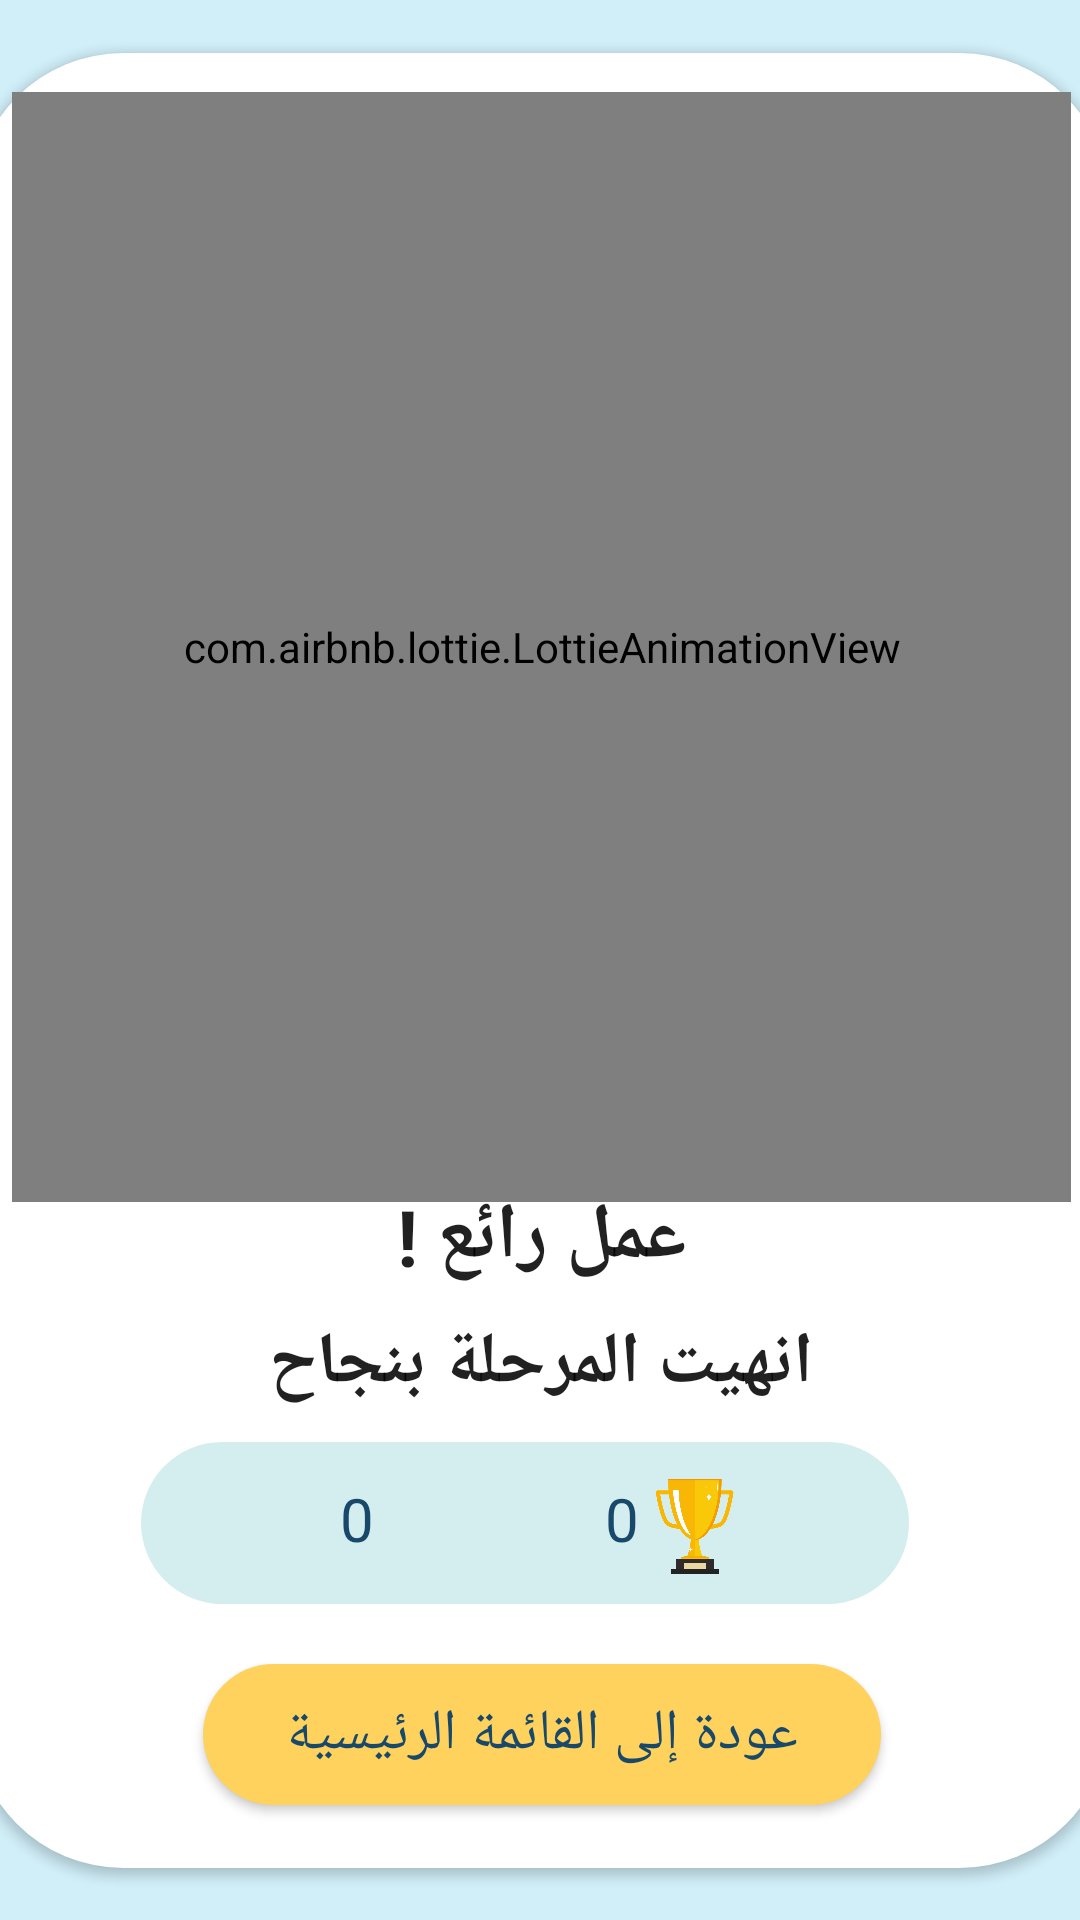

Icons on this 1080x1920 Android screen, each with the point to tap as (x,y):
prize: (695,1526)
